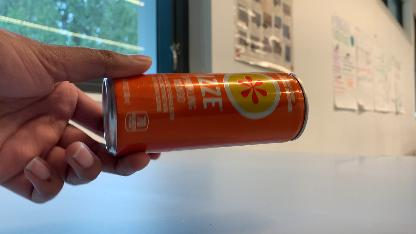Can: (98, 71, 314, 164)
